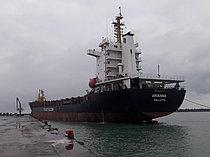Ship: (26, 6, 190, 131)
